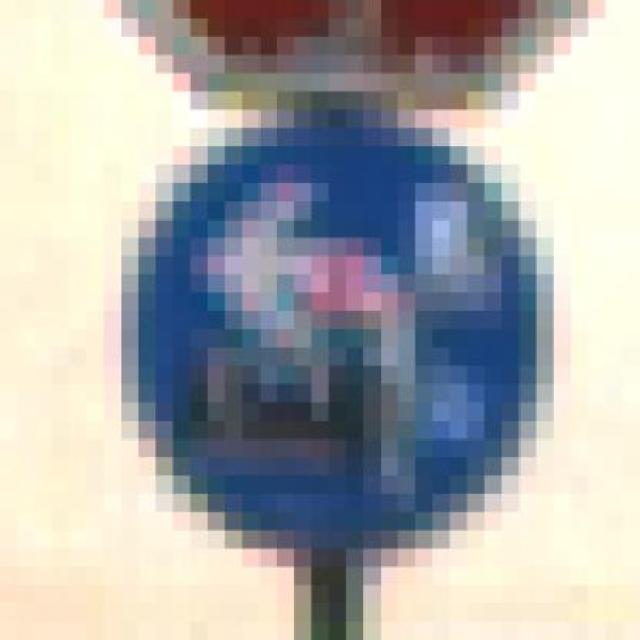Turn left ahead: (103, 73, 554, 585)
